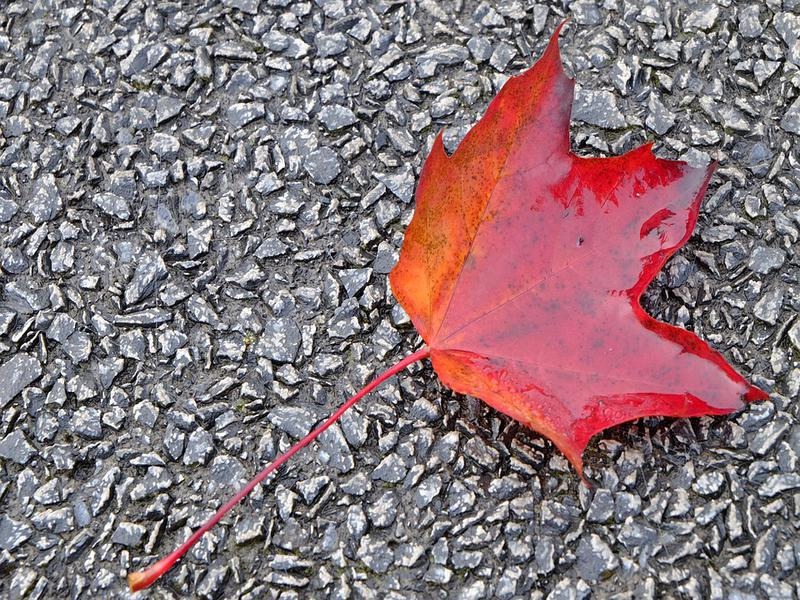leaf: (330, 15, 780, 515)
